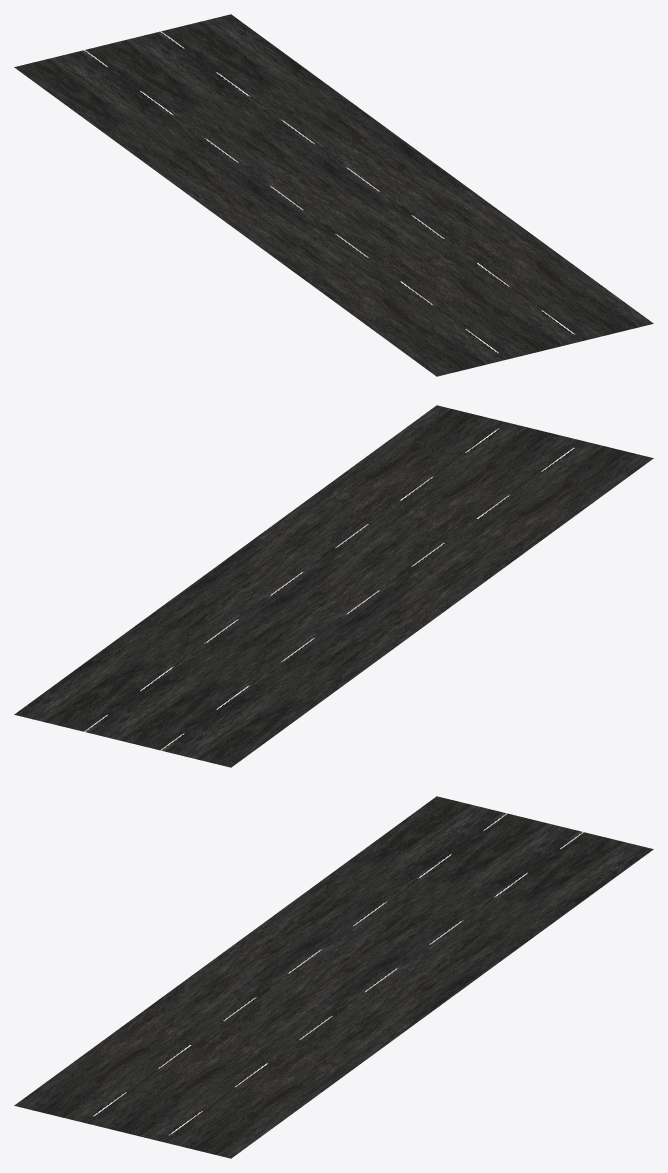
Rendered from Road.fbx.
3 views of the same model, one above another, from view 1: azimuth 30°, elevation 25°; view 2: azimuth 150°, elevation 25°; view 3: azimuth 330°, elevation 25° (orthographic).
Parts seen in each view (by area): view 1: pPlane1; view 2: pPlane1; view 3: pPlane1.
Part boxes in pixels (x1,y1,x2,y2): pPlane1: (14, 14, 653, 376); pPlane1: (14, 405, 653, 767); pPlane1: (14, 796, 653, 1158).
Size of the model in its own units: 3116 by 0 by 10506.
Materials: 1 (1 with a texture image).
